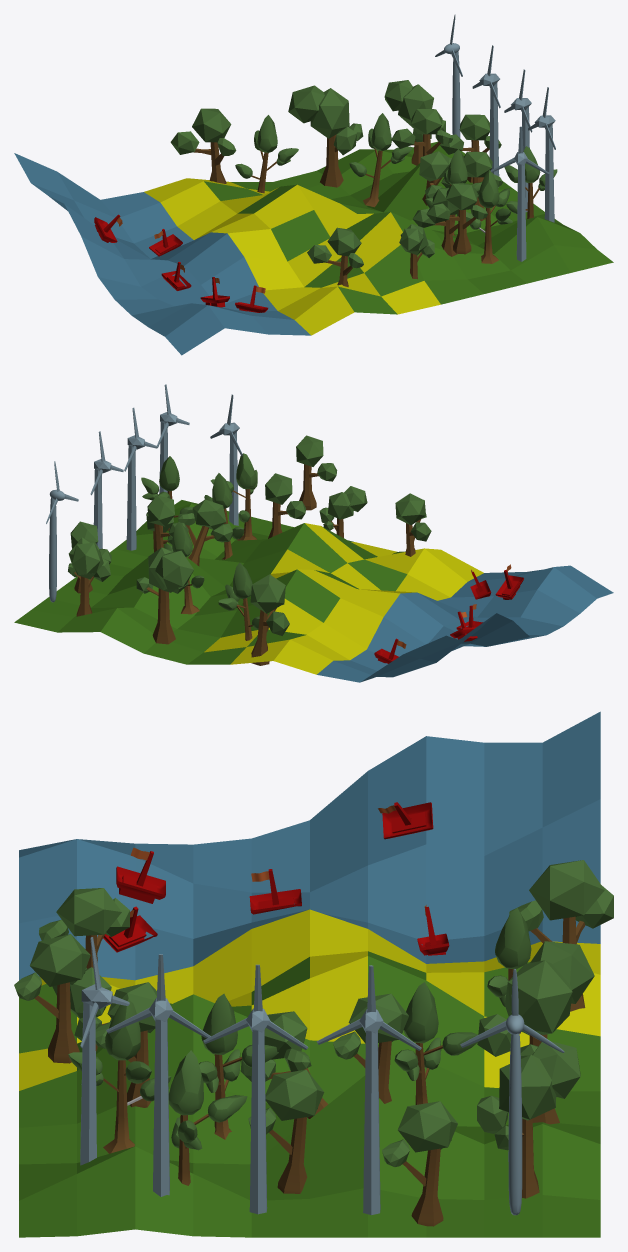
File: Cenarioooooooo.fbx
3 views of the same model, one above another, from view 1: azimuth 30°, elevation 25°; view 2: azimuth 150°, elevation 25°; view 3: azimuth 270°, elevation 25° (orthographic). The views are drawn at different scales.
Parts seen in each view (by area): view 1: polySurface2, polySurface95, polySurface80, polySurface114, polySurface87, polySurface105, polySurface50, polySurface110, polySurface111, polySurface54, polySurface58, polySurface98 (+12 smaller); view 2: polySurface2, polySurface114, polySurface80, polySurface136, polySurface58, polySurface112, polySurface147, polySurface110, polySurface70, polySurface98, polySurface87, polySurface111 (+14 smaller); view 3: polySurface2, polySurface95, polySurface80, polySurface54, polySurface136, polySurface105, polySurface147, polySurface70, polySurface111, polySurface116, polySurface52, polySurface50 (+27 smaller).
Boxes of the visible parts, box(x1,y1,x2,y2) form: polySurface2: box(14, 141, 613, 355); polySurface95: box(310, 88, 349, 138); polySurface80: box(192, 108, 231, 142); polySurface114: box(288, 85, 324, 123); polySurface87: box(516, 164, 526, 261); polySurface105: box(544, 124, 554, 222); polySurface50: box(398, 84, 433, 127); polySurface110: box(419, 151, 449, 181); polySurface111: box(446, 182, 477, 210); polySurface54: box(489, 83, 499, 187); polySurface58: box(320, 134, 343, 187); polySurface98: box(411, 108, 442, 134); polySurface2: box(14, 500, 613, 682); polySurface114: box(155, 550, 193, 589); polySurface80: box(250, 574, 285, 613); polySurface136: box(126, 445, 136, 550); polySurface58: box(152, 588, 175, 644); polySurface112: box(72, 542, 100, 574); polySurface147: box(49, 497, 56, 602); polySurface110: box(192, 499, 226, 529); polySurface70: box(395, 493, 425, 525); polySurface98: box(147, 495, 174, 526); polySurface87: box(229, 432, 238, 525); polySurface111: box(296, 435, 323, 466); polySurface2: box(19, 711, 600, 1237); polySurface95: box(505, 960, 572, 1035); polySurface80: box(529, 860, 604, 920); polySurface54: box(363, 1031, 380, 1215); polySurface136: box(249, 1030, 267, 1214); polySurface105: box(153, 1019, 169, 1196); polySurface147: box(508, 1033, 522, 1215); polySurface70: box(56, 888, 121, 936); polySurface111: box(30, 934, 90, 986); polySurface116: box(398, 1101, 457, 1152); polySurface52: box(265, 1069, 324, 1120); polySurface50: box(499, 1055, 556, 1120).
Size of the model in its own units: 133 by 46.32 by 92.19.
